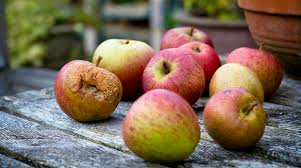apple: (122, 93, 205, 159), (207, 93, 269, 142), (142, 52, 200, 103), (206, 66, 274, 103)
damaged_apple: (56, 60, 125, 122), (91, 38, 155, 96)
